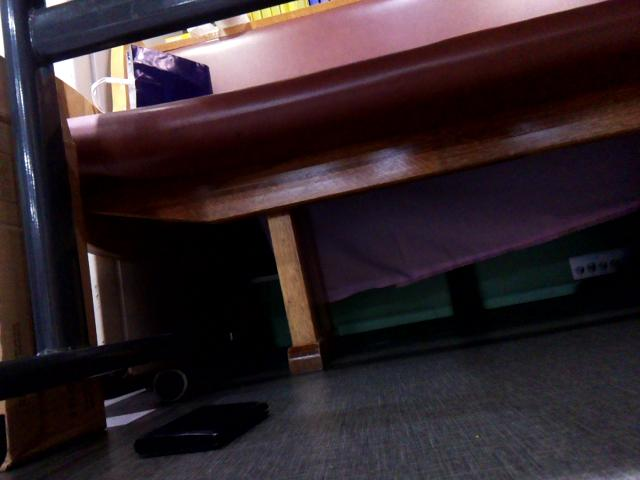wallet: (132, 391, 276, 460)
